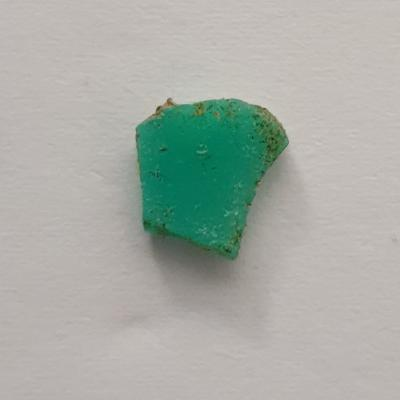plastic: (131, 94, 293, 260)
